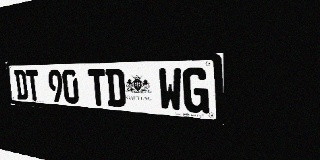0: (62, 69, 79, 104)
9: (47, 69, 64, 103)
D: (105, 68, 126, 108), (14, 70, 29, 100)
G: (182, 67, 209, 114)
T: (88, 69, 107, 106), (25, 70, 41, 101)
W: (158, 68, 183, 112)
